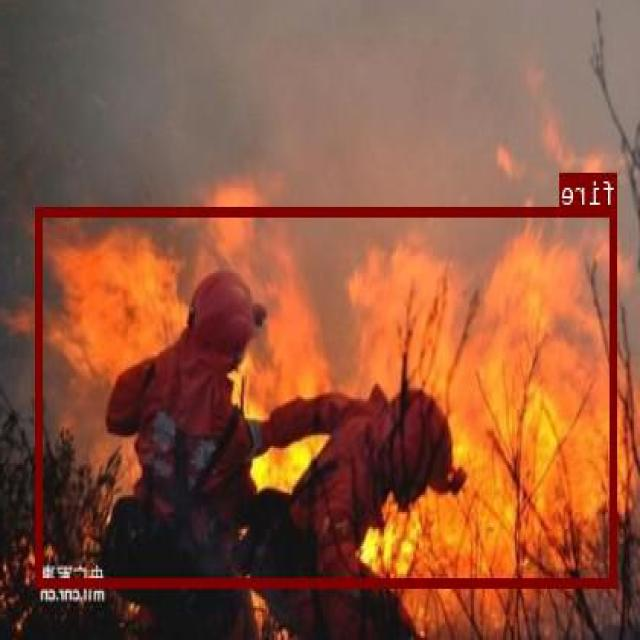fire: (38, 207, 617, 585)
